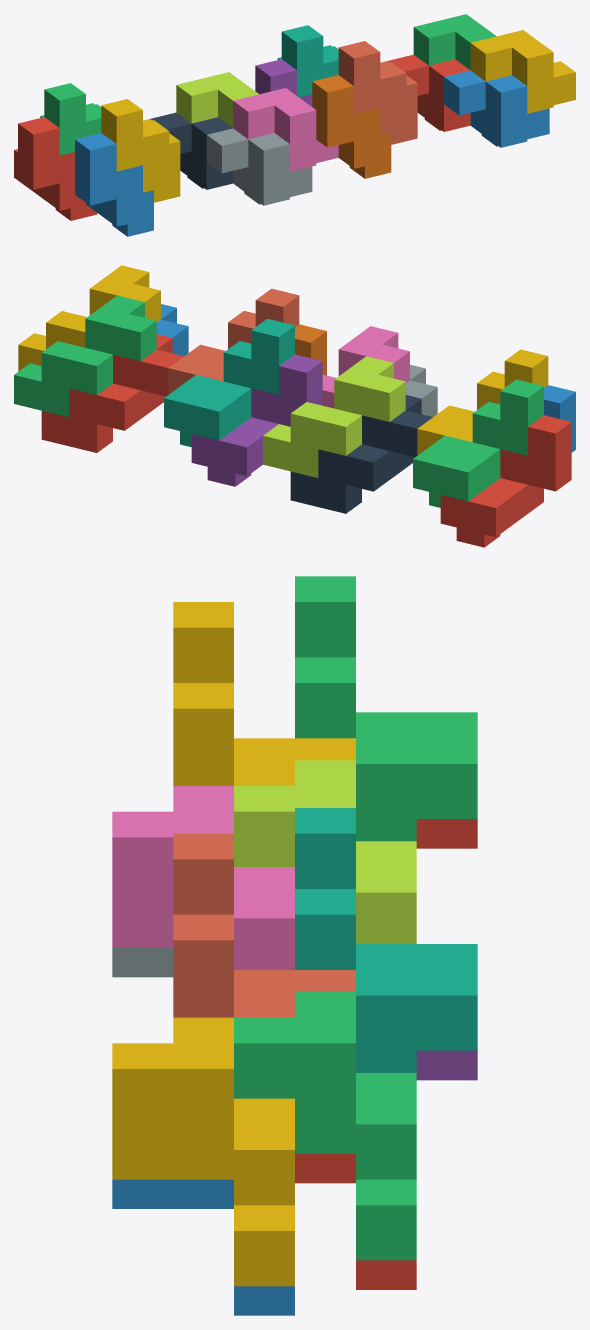
The model's file is tiling.obj.
The picture shows the model from 3 angles, top to bottom: view 1: azimuth 30°, elevation 25°; view 2: azimuth 150°, elevation 25°; view 3: azimuth 270°, elevation 25°; orthographic projection. The views are drawn at different scales.
Parts seen in each view (by area): view 1: copy_1_domain_2, copy_2_domain_2, copy_2_domain_6, copy_1_domain_6, copy_2_domain_8, copy_1_domain_4, copy_1_domain_8, copy_2_domain_4, copy_1_domain_1, copy_2_domain_5, copy_2_domain_7, copy_2_domain_1 (+4 smaller); view 2: copy_2_domain_7, copy_2_domain_3, copy_1_domain_3, copy_1_domain_7, copy_1_domain_1, copy_2_domain_1, copy_2_domain_5, copy_1_domain_5, copy_2_domain_8, copy_1_domain_8, copy_1_domain_4, copy_2_domain_4 (+4 smaller); view 3: copy_2_domain_8, copy_2_domain_7, copy_1_domain_3, copy_1_domain_7, copy_2_domain_4, copy_1_domain_4, copy_1_domain_8, copy_2_domain_3, copy_2_domain_6, copy_2_domain_5, copy_1_domain_5, copy_1_domain_1 (+1 smaller).
Part boxes in pixels (x1,y1,x2,y2): copy_1_domain_2: [75, 133, 153, 236]; copy_2_domain_2: [206, 128, 312, 205]; copy_2_domain_6: [444, 70, 549, 147]; copy_1_domain_6: [312, 75, 391, 178]; copy_2_domain_8: [470, 30, 575, 113]; copy_1_domain_4: [101, 99, 180, 202]; copy_1_domain_8: [338, 41, 417, 144]; copy_2_domain_4: [233, 88, 338, 171]; copy_1_domain_1: [14, 117, 97, 220]; copy_2_domain_5: [388, 54, 470, 131]; copy_2_domain_7: [413, 14, 496, 70]; copy_2_domain_1: [150, 112, 232, 189]; copy_2_domain_7: [14, 295, 156, 417]; copy_2_domain_3: [263, 356, 405, 477]; copy_1_domain_3: [413, 379, 543, 507]; copy_1_domain_7: [164, 319, 294, 446]; copy_1_domain_1: [440, 415, 571, 547]; copy_2_domain_1: [290, 395, 432, 513]; copy_2_domain_5: [41, 334, 183, 452]; copy_1_domain_5: [191, 354, 322, 486]; copy_2_domain_8: [18, 265, 160, 371]; copy_1_domain_8: [168, 288, 299, 394]; copy_1_domain_4: [417, 349, 548, 455]; copy_2_domain_4: [322, 326, 409, 408]; copy_2_domain_8: [112, 1017, 294, 1286]; copy_2_domain_7: [234, 992, 416, 1260]; copy_1_domain_3: [295, 576, 477, 841]; copy_1_domain_7: [295, 808, 477, 1072]; copy_2_domain_4: [112, 786, 294, 969]; copy_1_domain_4: [173, 602, 355, 785]; copy_1_domain_8: [173, 833, 355, 1017]; copy_2_domain_3: [234, 760, 416, 943]; copy_2_domain_6: [112, 1179, 294, 1315]; copy_2_domain_5: [295, 1153, 416, 1289]; copy_1_domain_5: [416, 1050, 477, 1080]; copy_1_domain_1: [416, 819, 477, 848].
Bounding box in the file's own units: 20 × 5 × 6.
